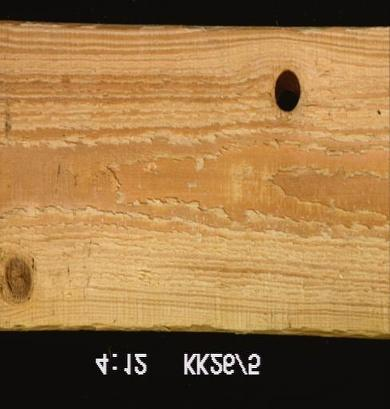sound_knot: (0, 251, 33, 305)
wave: (0, 312, 389, 338)
